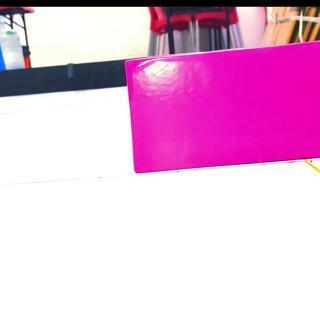xparking: (131, 61, 320, 165)
